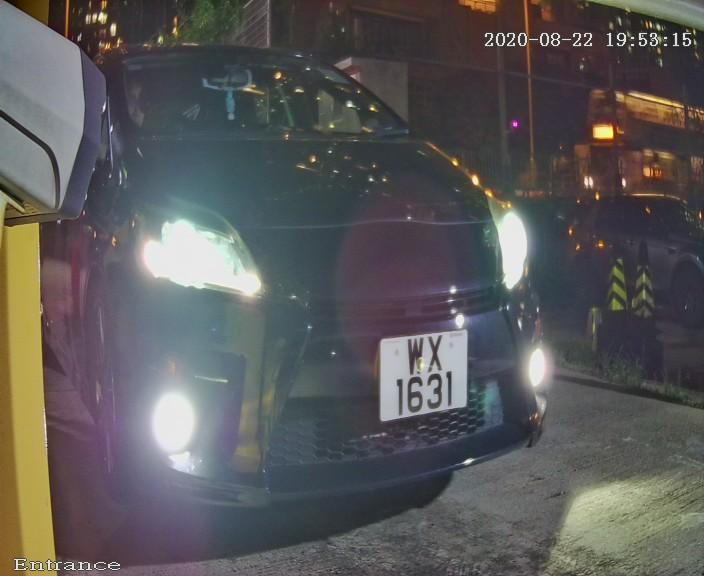Car: (32, 8, 595, 546)
License Plate: (371, 322, 478, 433)
